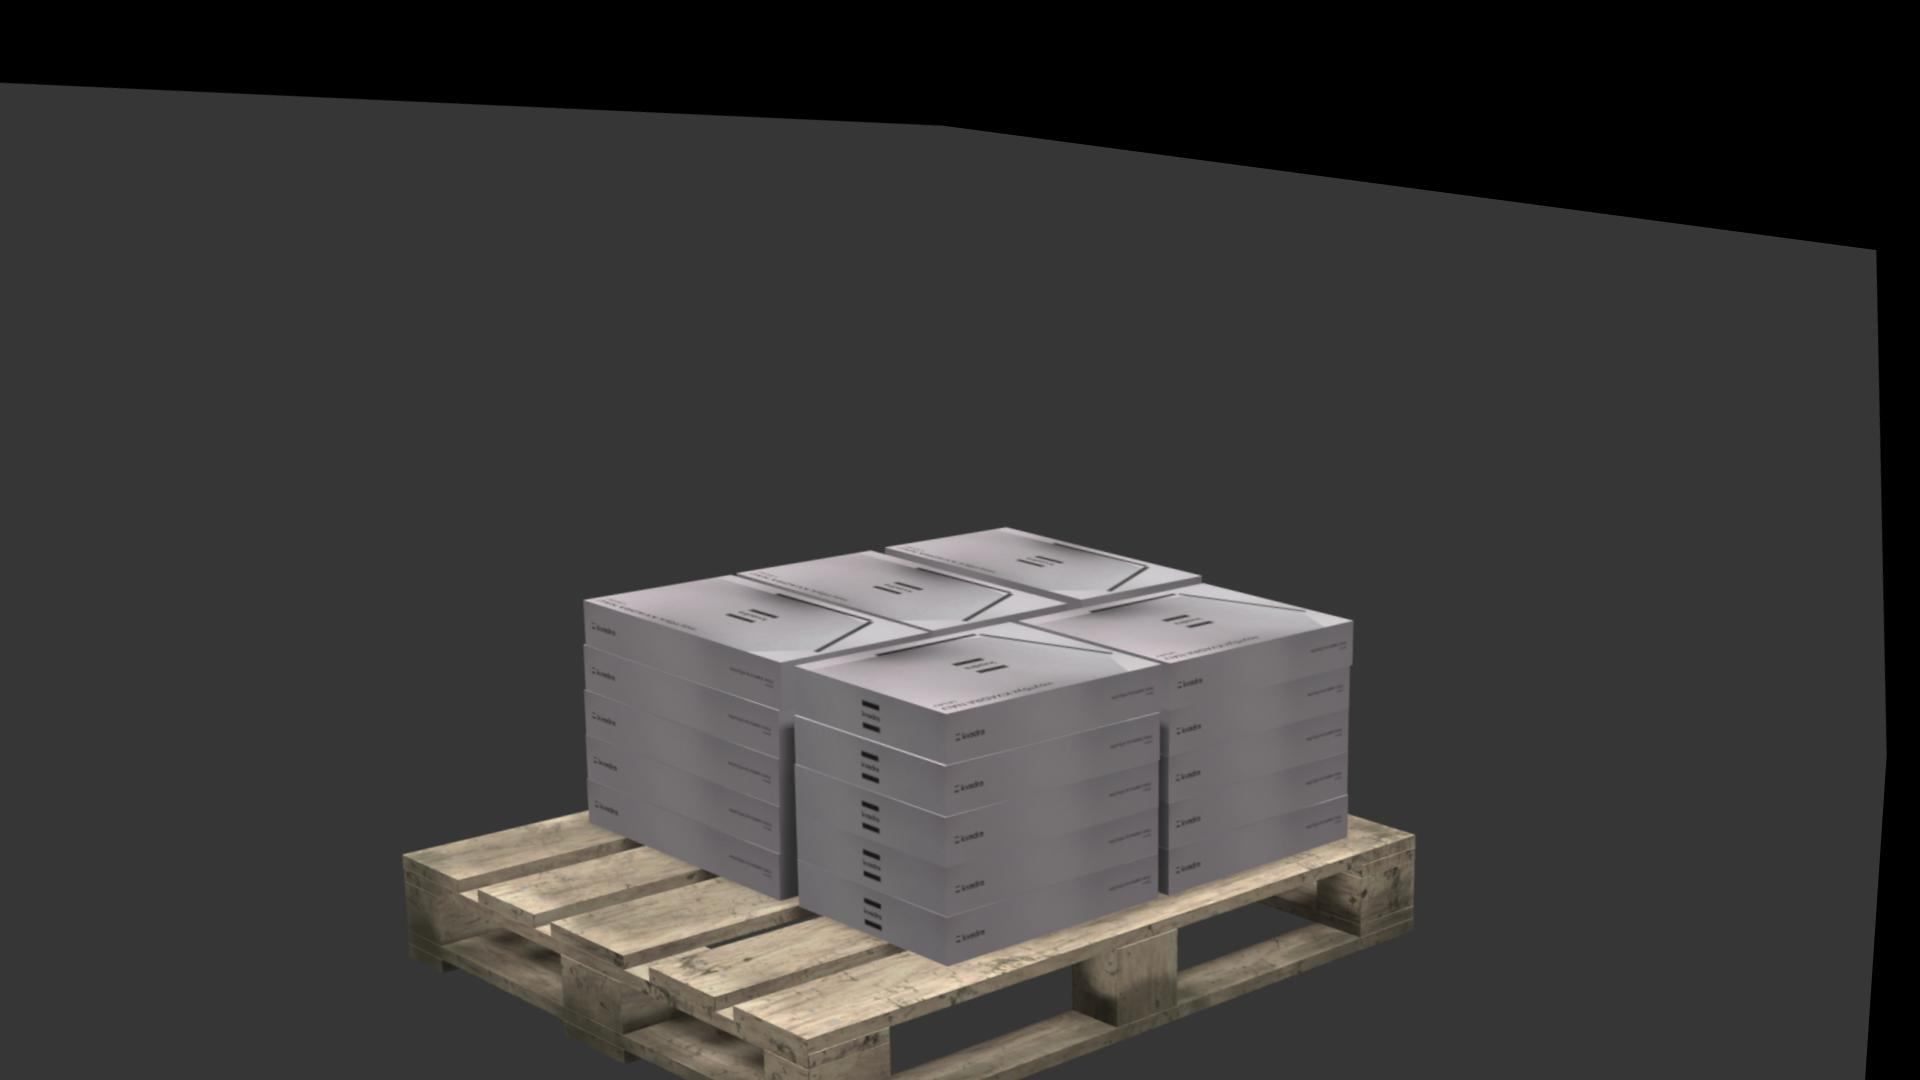laptop_left: (808, 819, 1170, 939), (807, 773, 1168, 887), (804, 727, 1168, 839), (802, 632, 1167, 737), (803, 682, 1167, 787), (593, 717, 791, 831), (597, 762, 793, 877), (593, 673, 793, 783), (592, 630, 793, 735), (592, 584, 790, 684), (1170, 711, 1357, 815), (1170, 757, 1357, 861), (1170, 670, 1357, 769), (1170, 626, 1357, 723), (1171, 583, 1360, 676)
laptop_top: (803, 592, 1168, 686), (593, 553, 936, 641), (1027, 547, 1360, 629), (746, 525, 1073, 603), (893, 496, 1207, 567)
palet: (413, 774, 1427, 1080)
